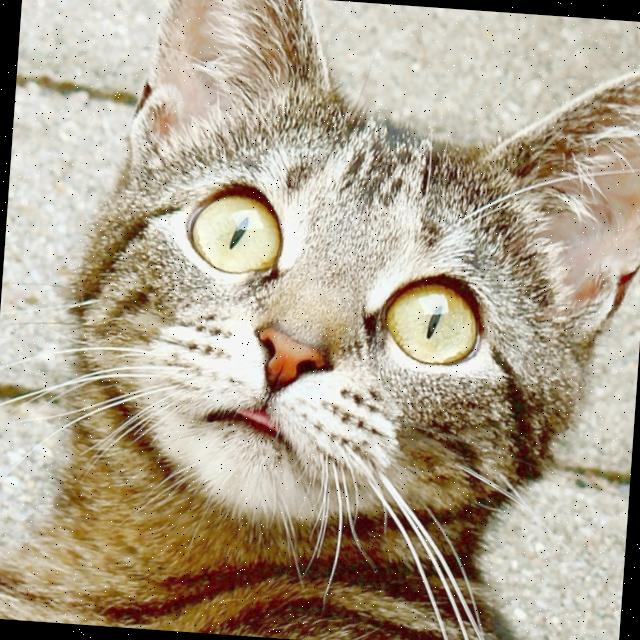Surprised: (124, 126, 512, 500)
